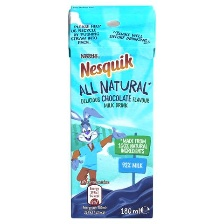carton: (64, 1, 157, 221)
